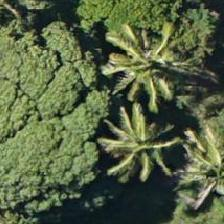coconut_tree: (95, 17, 185, 107), (91, 99, 181, 189), (173, 129, 223, 219)
